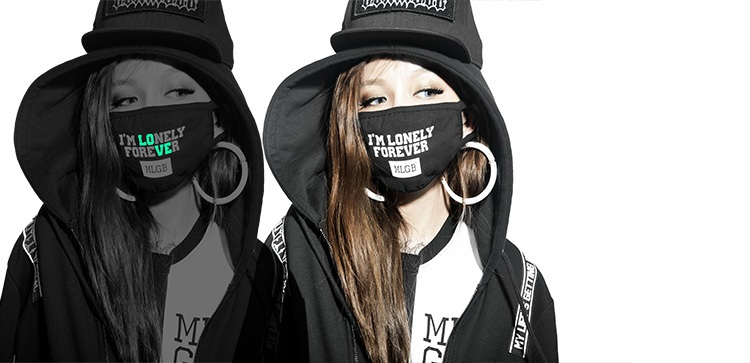face_mask: (348, 64, 460, 206), (104, 62, 212, 203)
